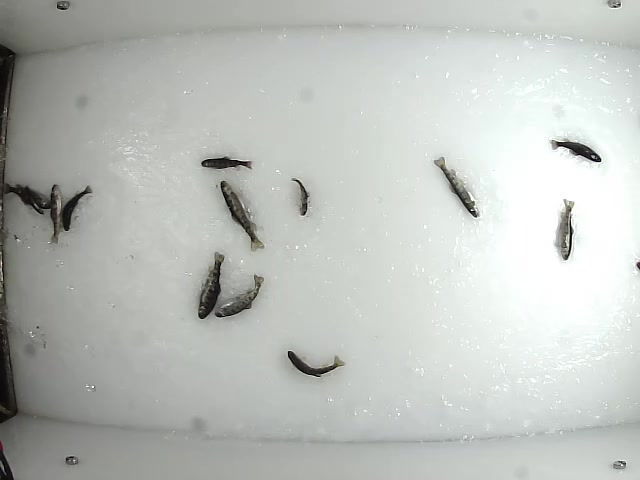fish: (219, 177, 266, 252), (431, 155, 480, 219), (212, 272, 266, 321), (193, 248, 227, 318), (59, 182, 95, 232), (287, 349, 346, 379), (551, 196, 576, 263), (1, 182, 43, 217), (548, 138, 602, 163), (43, 177, 63, 244), (282, 177, 310, 223), (198, 149, 255, 171), (15, 180, 54, 210)
